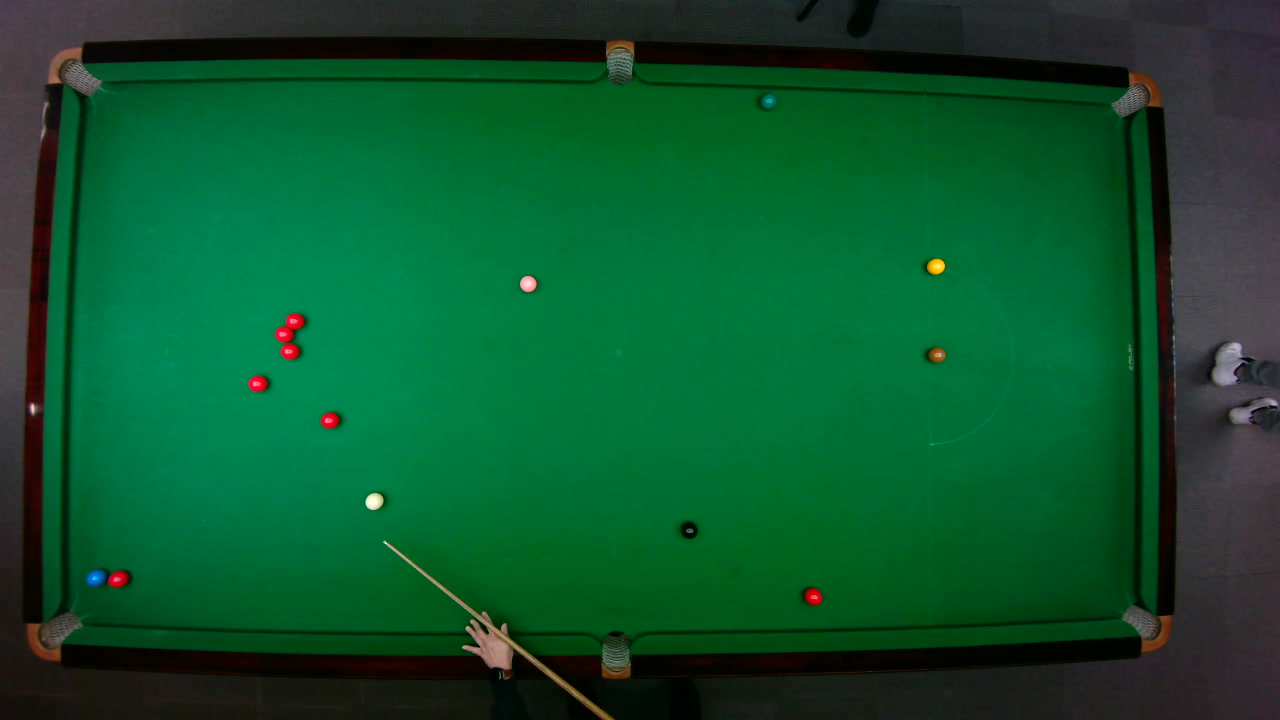bag: (24, 609, 84, 661), (45, 46, 101, 96), (1119, 603, 1172, 652), (1108, 71, 1161, 117), (601, 629, 629, 680), (605, 38, 633, 85)
black: (679, 520, 697, 539)
blue: (85, 567, 106, 586)
brown: (926, 346, 946, 362)
cue: (380, 537, 615, 720)
green: (759, 92, 776, 110)
pink: (518, 273, 537, 293)
red: (105, 568, 130, 588), (802, 586, 823, 606), (246, 374, 269, 392), (284, 311, 305, 330), (319, 411, 340, 429), (279, 342, 300, 359), (273, 325, 293, 342)
white: (363, 491, 384, 510)
yellow: (925, 257, 945, 274)
zone: (927, 267, 1013, 445)
